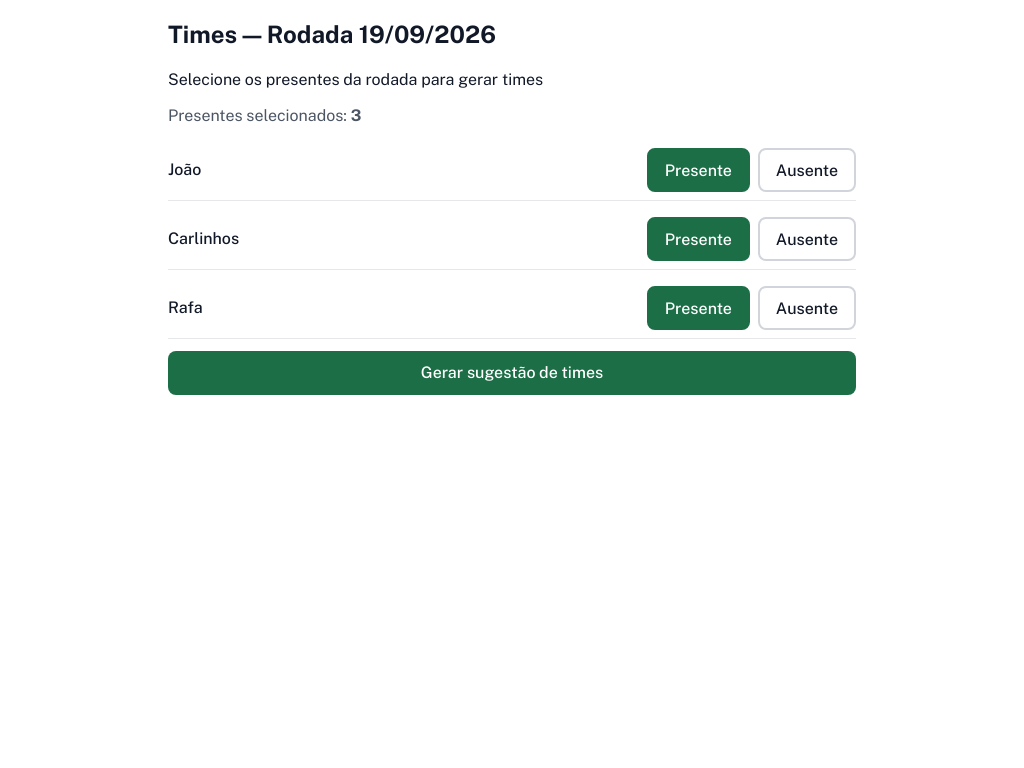
MontagemTimesShell › 404 (rodada não encontrada) ao confirmar mostra mensagem genérica de falha
This screenshot has width=1024, height=768.
Check: the heading "Times — Rodada 19/09/2026" is shown, box [168, 20, 496, 48]
Click the button "Gerar sugestão de times". click: {"x": 512, "y": 373}
box: [168, 351, 856, 395]
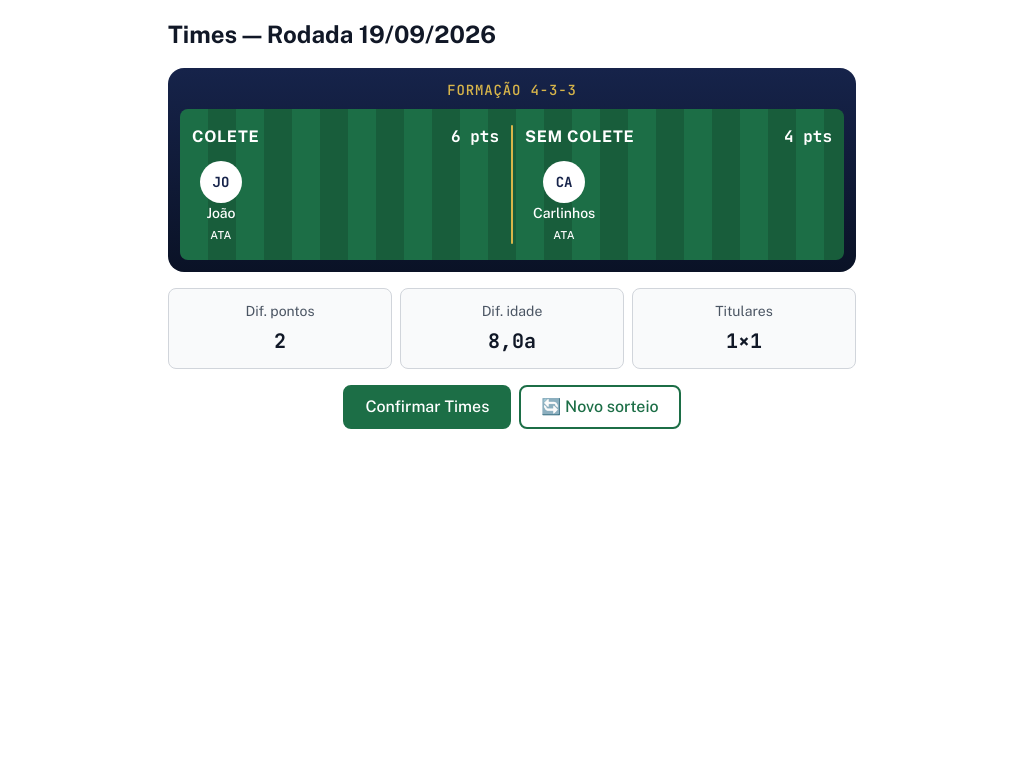
Check: the heading "Colete" is shown, box [192, 125, 259, 149]
Click the button "Confirmar Times". click: {"x": 427, "y": 406}
box: [343, 384, 511, 428]
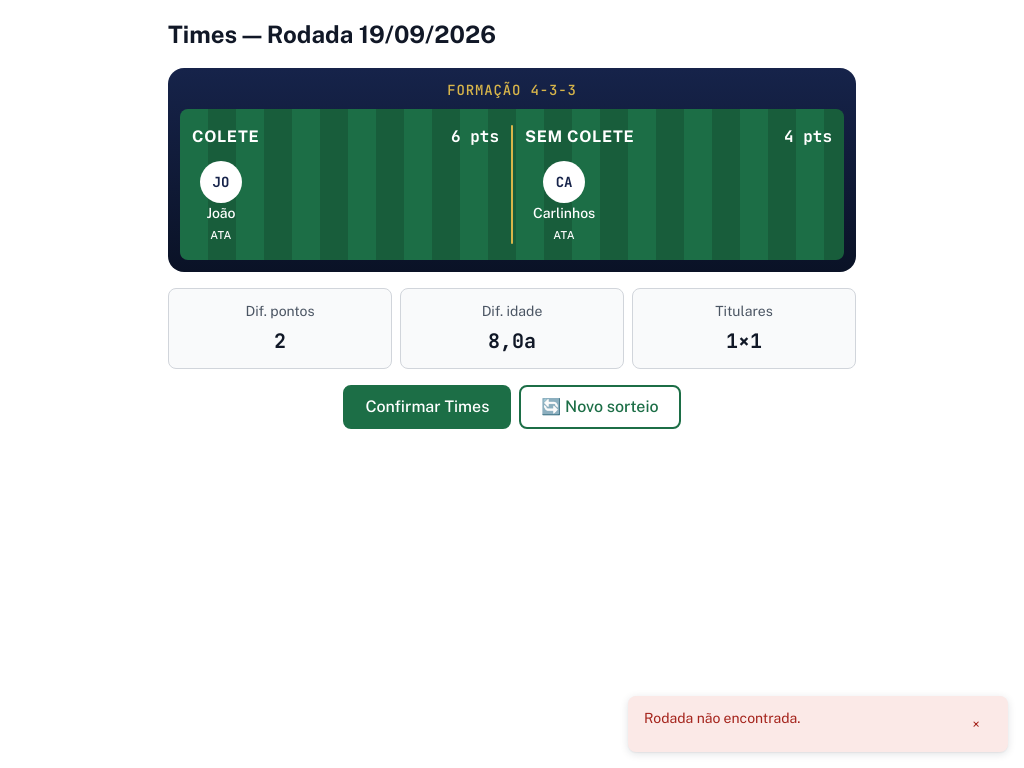
Check: the text "Rodada não encontrada." is shown, box [644, 710, 800, 726]
